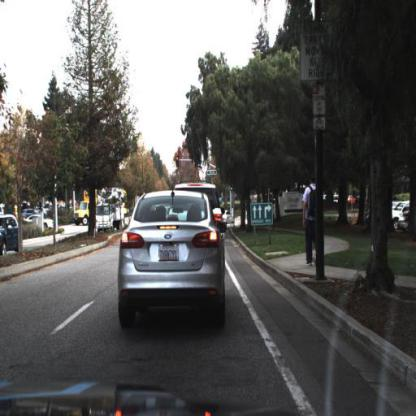car: (118, 189, 227, 333), (1, 215, 25, 257), (208, 185, 222, 227), (23, 215, 55, 231)
pedestrian: (304, 171, 316, 267)
trafficLight: (176, 157, 181, 168)
trafficLight-RedLeft: (174, 155, 182, 171)
truck: (96, 189, 126, 233), (74, 190, 99, 226)
